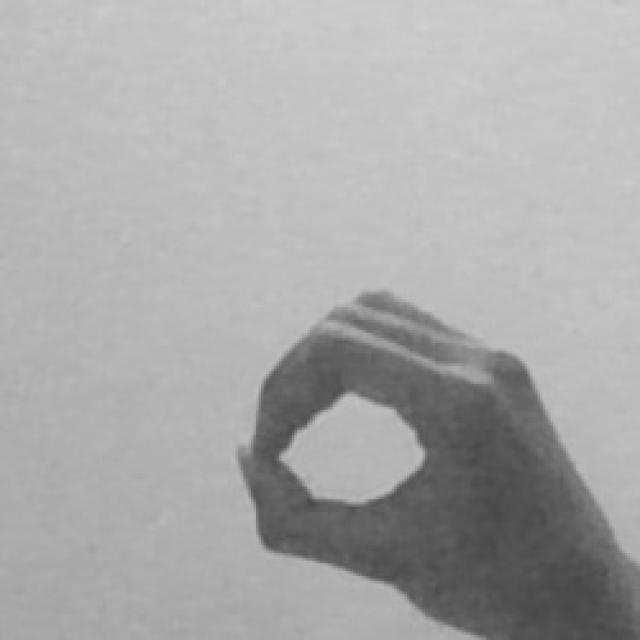O: (233, 284, 637, 640)
